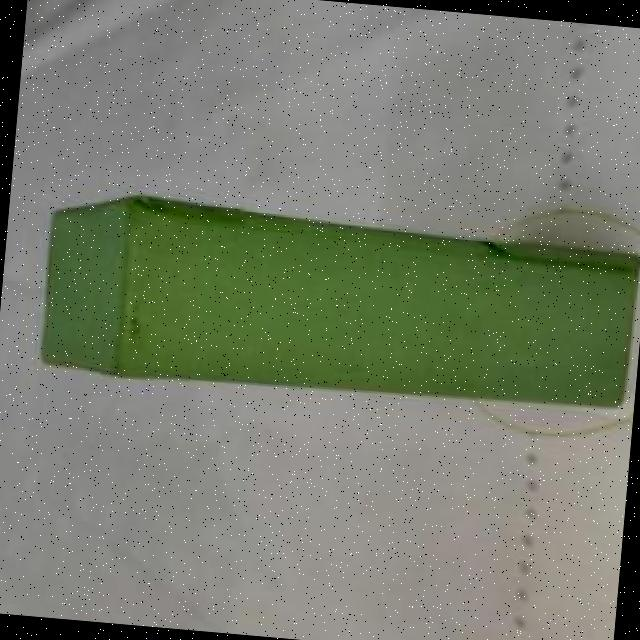greenbox: (26, 179, 640, 424)
